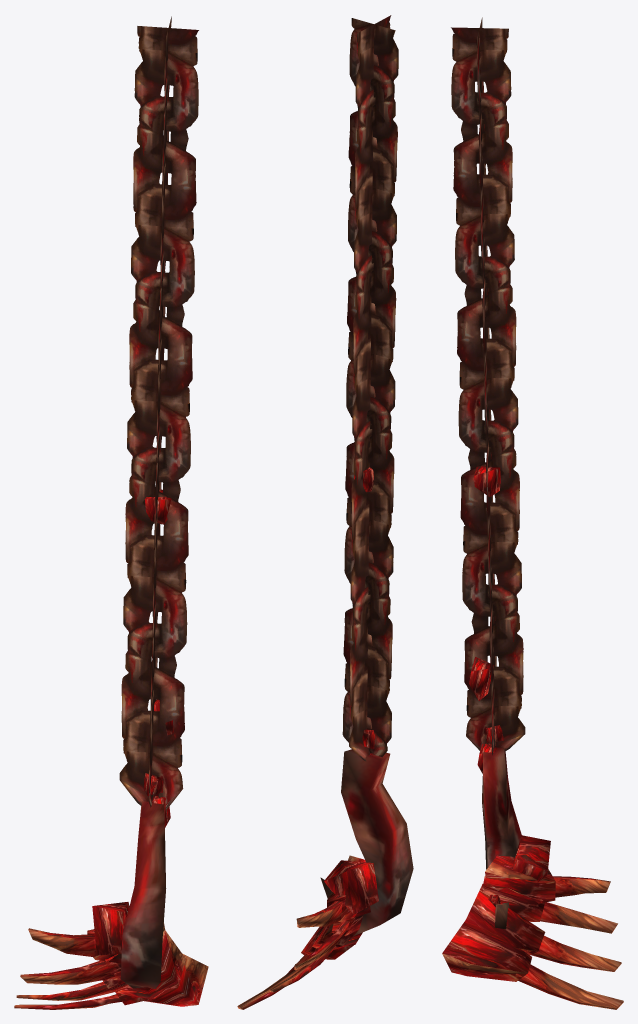
Rendered from ogremeatchain02.obj.
The picture shows the model from 3 angles, left to right: view 1: azimuth 90°, elevation 25°; view 2: azimuth 150°, elevation 25°; view 3: azimuth 270°, elevation 25°; orthographic projection. The views are drawn at different scales.
Visible parts, largest first — view 1: OGREMEATCHAIN020; view 2: OGREMEATCHAIN020; view 3: OGREMEATCHAIN020.
Boxes of the visible parts, bbox=[...] form: OGREMEATCHAIN020: bbox=[14, 16, 208, 1009]; OGREMEATCHAIN020: bbox=[237, 15, 413, 1009]; OGREMEATCHAIN020: bbox=[442, 17, 623, 1009].
Bounding box in the file's own units: 0.6836 × 5.63 × 0.976.
Materials: 1 (1 with a texture image).
